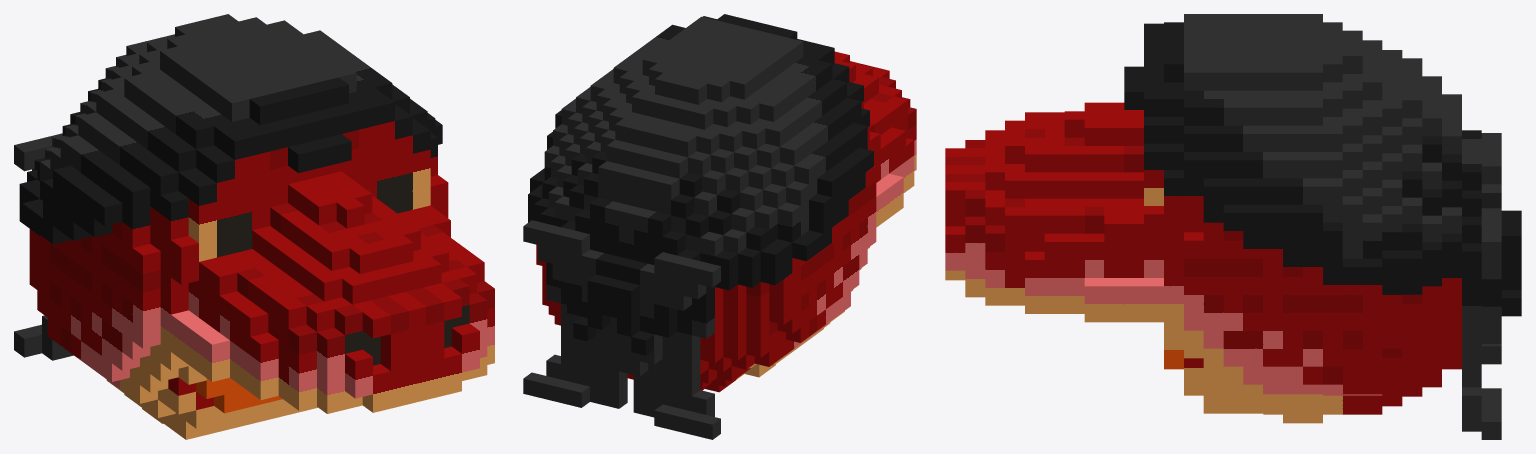
Rendered from black durag_golden glasses.gltf.
3 renders of one model, left to right at view 1: azimuth 30°, elevation 25°; view 2: azimuth 150°, elevation 25°; view 3: azimuth 270°, elevation 25°, orthographic. The views are drawn at different scales.
Visible parts, largest first — view 1: C17_H_blacDurag_redG-Mesh; view 2: C17_H_blacDurag_redG-Mesh; view 3: C17_H_blacDurag_redG-Mesh.
Boxes of the visible parts, x1,y1,x2,y2 form: C17_H_blacDurag_redG-Mesh: (14,14,494,439); C17_H_blacDurag_redG-Mesh: (523,14,916,439); C17_H_blacDurag_redG-Mesh: (945,14,1521,439).
Bounding box in the file's own units: 19 × 19 × 29.
Materials: 1 (1 with a texture image).
